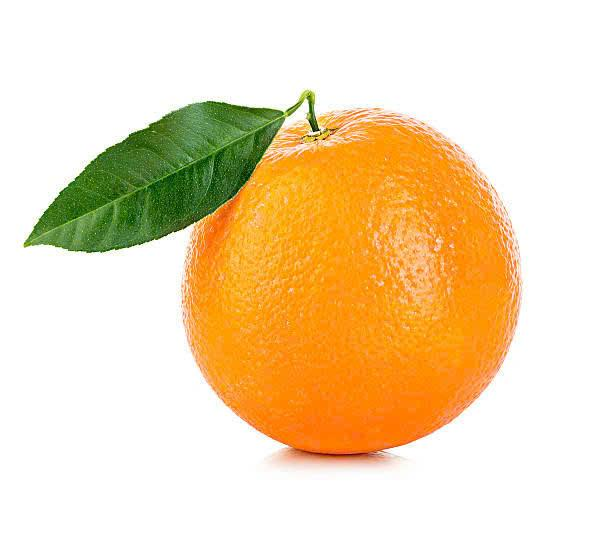orange: (170, 89, 520, 455)
